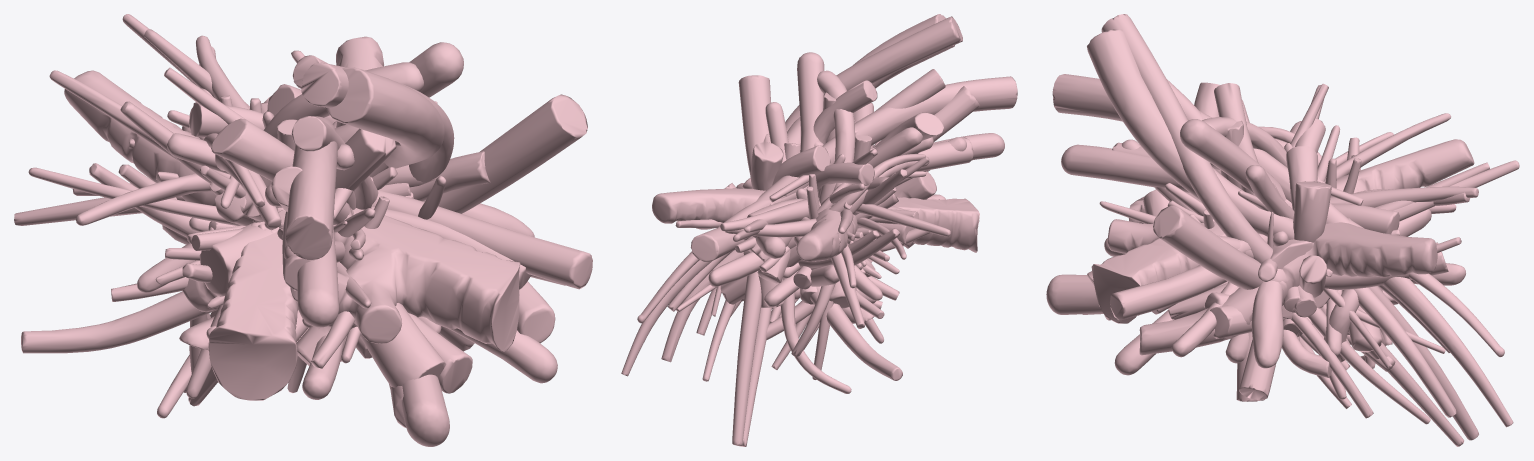
The model's file is atlas_lungs.glb.
3 views of the same model, side by side, from view 1: azimuth 30°, elevation 25°; view 2: azimuth 150°, elevation 25°; view 3: azimuth 270°, elevation 25° (orthographic). The views are drawn at different scales.
Parts seen in each view (by area): view 1: right main bronchus proper, left main bronchus, lateral segmental bronchial tree (×2), right lateral basal segmental bronchial tree, inferior lingular bronchial tree, left anterior basal segmental artery, mediobasal branch of posterior basal segmental artery, right posterior basal segmental vein, inferior lingular artery, right superior segmental vein, left posterior basal segmental artery, superior lingular artery (+27 smaller); view 2: left main bronchus, left anterior basal segmental artery, inferior lingular artery, left anterior segmental artery (×3), inferior lingular bronchial tree, lateral segmental bronchial tree, superior branch of medial segmental artery, right main bronchus proper, superior part of medial segmental vein, left lateral basal segmental artery, left medial basal segmental bronchial tree, left medial basal segmental artery (+25 smaller); view 3: right main bronchus proper, inferior lingular bronchial tree, left main bronchus, inferior lingular artery, left anterior basal segmental artery, left lateral basal segmental artery, lateral segmental bronchial tree (×2), left posterior basal segmental artery (×2), left anterior segmental artery (×3), right lateral basal segmental bronchial tree, right superior segmental vein (×2), superior branch of medial segmental artery (+26 smaller).
Boxes of the visible parts, x1,y1,x2,y2 form: right main bronchus proper: [64, 70, 520, 365]; left main bronchus: [208, 36, 555, 400]; lateral segmental bronchial tree (×2): [21, 94, 587, 353]; right lateral basal segmental bronchial tree: [14, 190, 592, 289]; inferior lingular bronchial tree: [183, 67, 444, 392]; left anterior basal segmental artery: [285, 116, 337, 260]; mediobasal branch of posterior basal segmental artery: [196, 35, 446, 387]; right posterior basal segmental vein: [49, 70, 557, 383]; inferior lingular artery: [188, 62, 454, 406]; right superior segmental vein: [76, 173, 534, 237]; left posterior basal segmental artery: [122, 14, 449, 446]; superior lingular artery: [211, 118, 353, 224]; left main bronchus: [652, 188, 979, 252]; left anterior basal segmental artery: [621, 76, 1017, 376]; inferior lingular artery: [740, 16, 962, 446]; left anterior segmental artery (×3): [771, 80, 882, 369]; inferior lingular bronchial tree: [732, 14, 954, 446]; lateral segmental bronchial tree: [738, 75, 902, 380]; superior branch of medial segmental artery: [780, 52, 851, 393]; right main bronchus proper: [796, 171, 936, 308]; superior part of medial segmental vein: [812, 70, 855, 379]; left lateral basal segmental artery: [637, 133, 1004, 323]; left medial basal segmental bronchial tree: [661, 86, 979, 362]; left medial basal segmental artery: [702, 69, 945, 381]; right main bronchus proper: [1091, 139, 1474, 323]; inferior lingular bronchial tree: [1087, 29, 1478, 440]; left main bronchus: [1128, 189, 1437, 355]; inferior lingular artery: [1101, 14, 1464, 446]; left anterior basal segmental artery: [1052, 74, 1513, 427]; left lateral basal segmental artery: [1061, 144, 1504, 357]; lateral segmental bronchial tree (×2): [1153, 205, 1316, 317]; left posterior basal segmental artery (×2): [1046, 160, 1519, 319]; left anterior segmental artery (×3): [1214, 83, 1351, 408]; right lateral basal segmental bronchial tree: [1110, 204, 1456, 320]; right superior segmental vein (×2): [1251, 176, 1342, 368]; superior branch of medial segmental artery: [1180, 119, 1385, 360].
Size of the model in its own units: 2964444 by 3511761 by 3804576.
